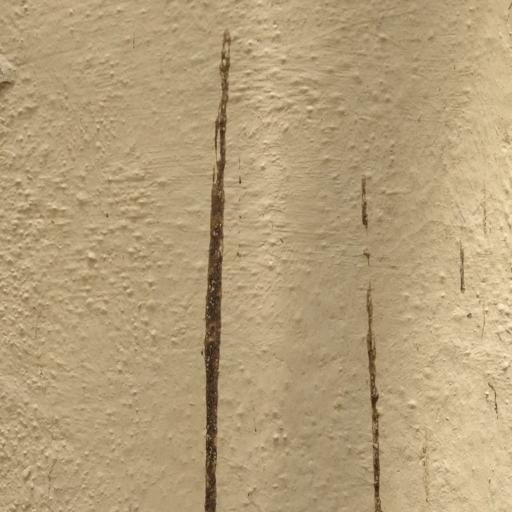stain: (163, 25, 245, 512), (442, 140, 512, 456), (352, 157, 388, 512), (409, 418, 463, 512)
